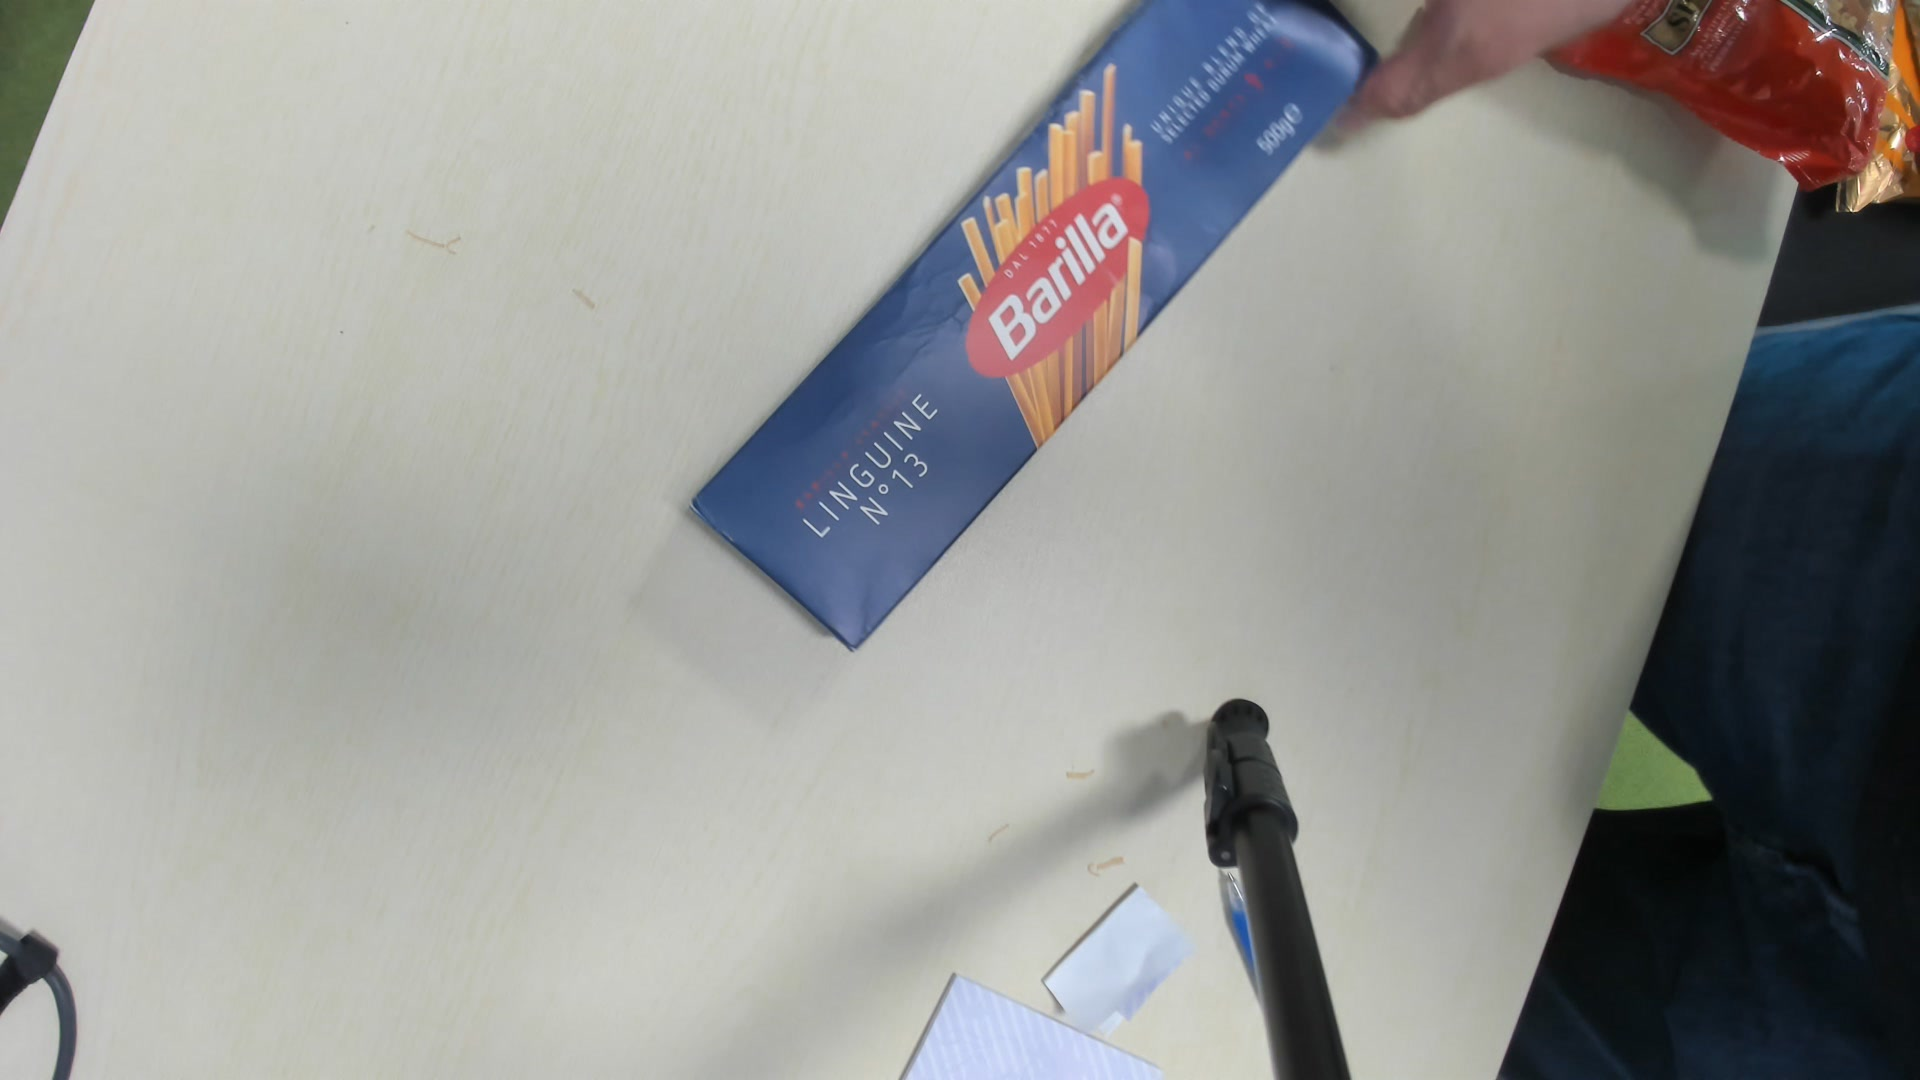Pasta_500-599g_NonHalal_NonHealthy: (680, 5, 1371, 654)
